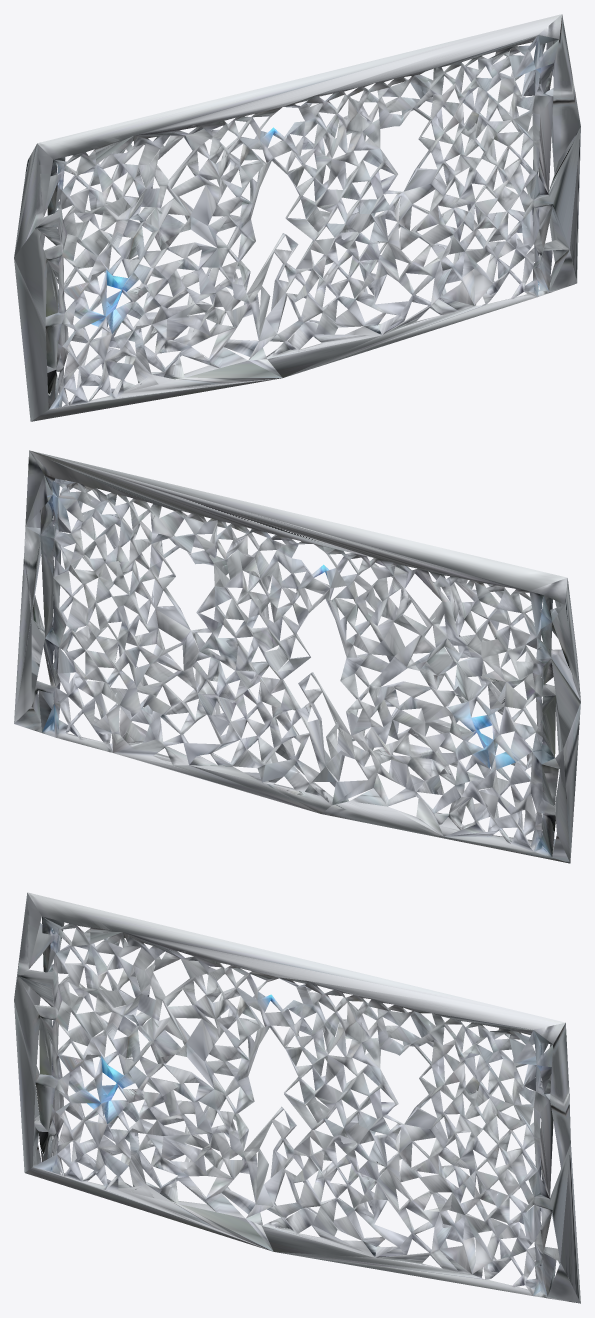
The model's file is fence-chainlink.glb.
3 views of the same model, one above another, from view 1: azimuth 30°, elevation 25°; view 2: azimuth 150°, elevation 25°; view 3: azimuth 330°, elevation 25° (orthographic).
Visible parts, largest first — view 1: SM_fence-chainlink; view 2: SM_fence-chainlink; view 3: SM_fence-chainlink.
Boxes of the visible parts, x1,y1,x2,y2 form: SM_fence-chainlink: (14,14,580,421); SM_fence-chainlink: (14,450,580,863); SM_fence-chainlink: (14,892,580,1303).
Bounding box in the file's own units: 4 × 2 × 0.1422.
Materials: 1 (1 with a texture image).
